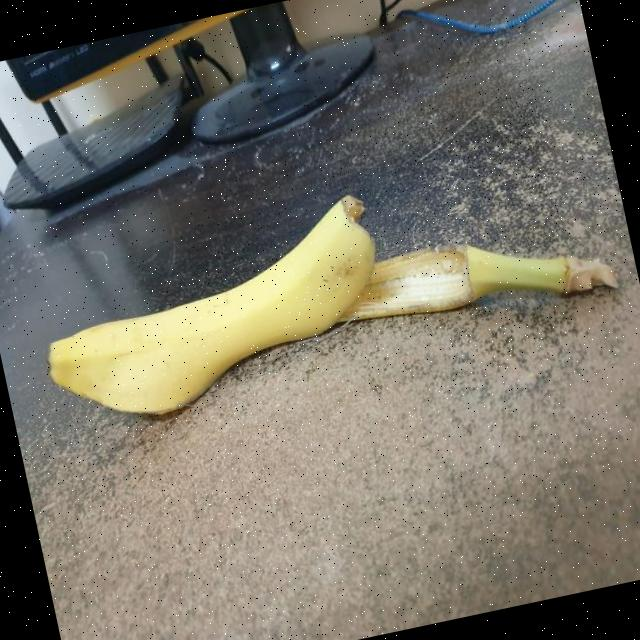banana-peel: (23, 190, 401, 436), (326, 208, 619, 347)
